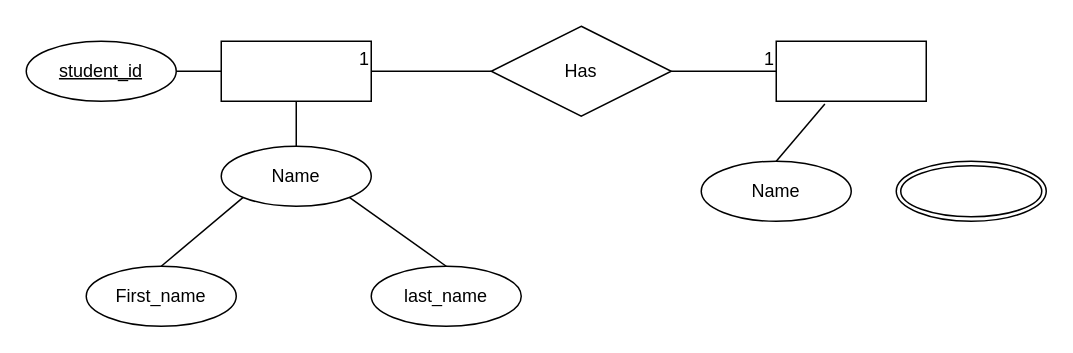
This 1073x353 diagram has some shape labels left out. Each missing label, with the centre of its shape:
Attribute: the point at 970,190
ID_Card: the point at 850,70
Student: the point at 295,70
